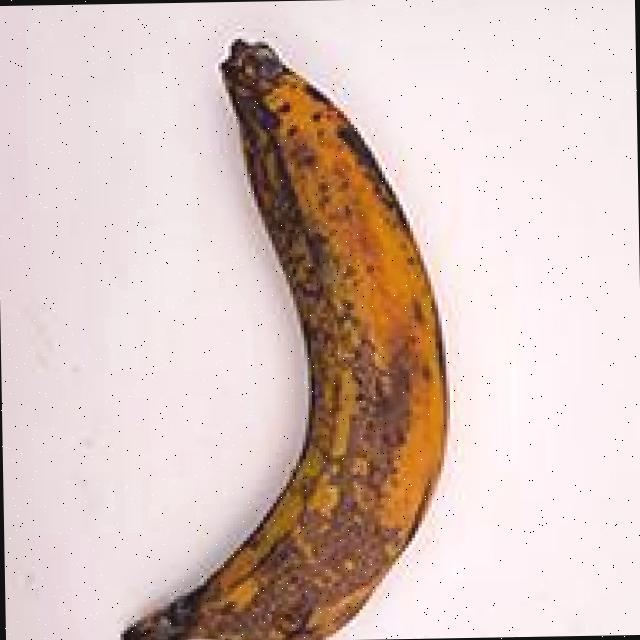Overripe: (89, 15, 460, 640)
